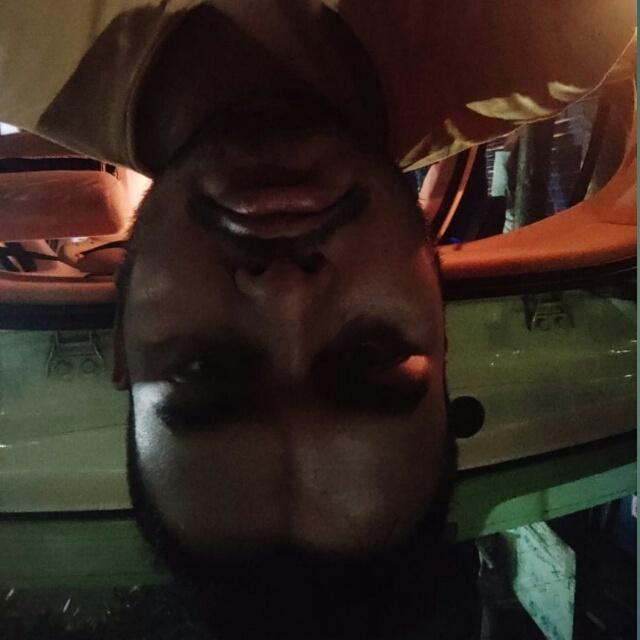Sad: (70, 115, 513, 553)
